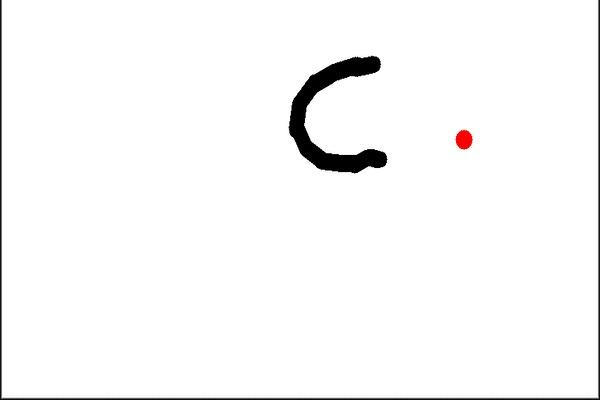C: (284, 52, 391, 175)
